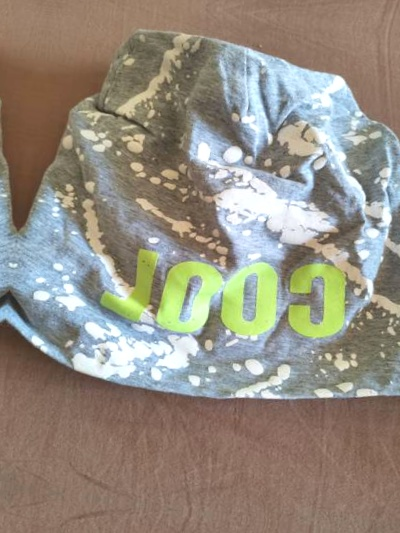Hat: (3, 11, 400, 438), (0, 0, 42, 378), (62, 0, 400, 19)
